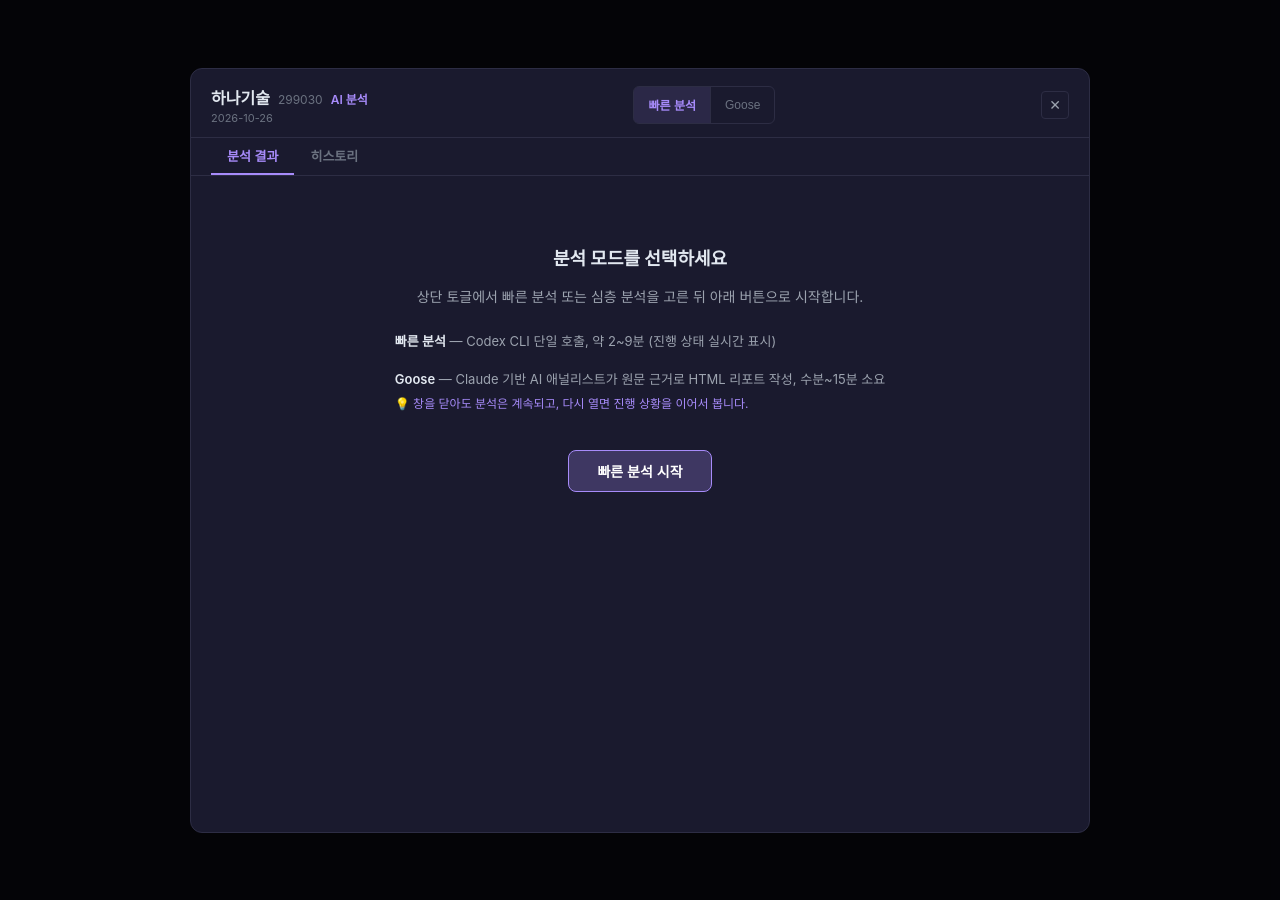
AC-AIR4-019 — 기록 탭에서 연 goose 리포트 › 기록 목록은 kind별로 표시하고 goose 항목은 전달 상태·중단 여부를 보인다
The width and height of the screenshot is (1280, 900).
Click the button "히스토리".
click(334, 156)  # box [294, 138, 374, 174]
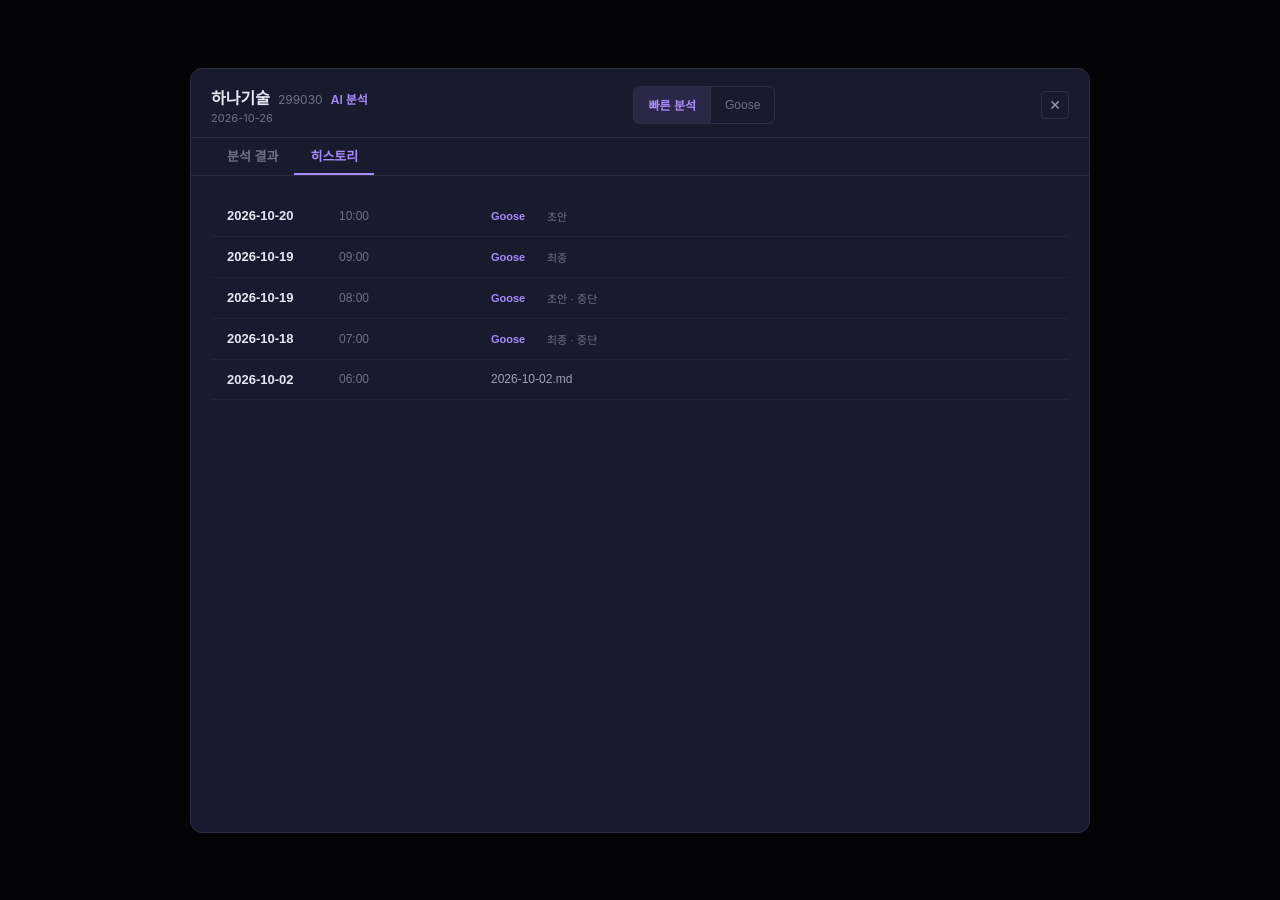
Result: the number of buttons with class "ai-report-history-item" is 5 at [211, 196, 1069, 236]; [211, 236, 1069, 278]; [211, 278, 1069, 318]; [211, 318, 1069, 360]; [211, 360, 1069, 400]
Result: the button with class "ai-report-history-item" shows "Goose" at [211, 196, 1069, 236]
Result: the button with class "ai-report-history-item" shows "초안" at [211, 196, 1069, 236]
